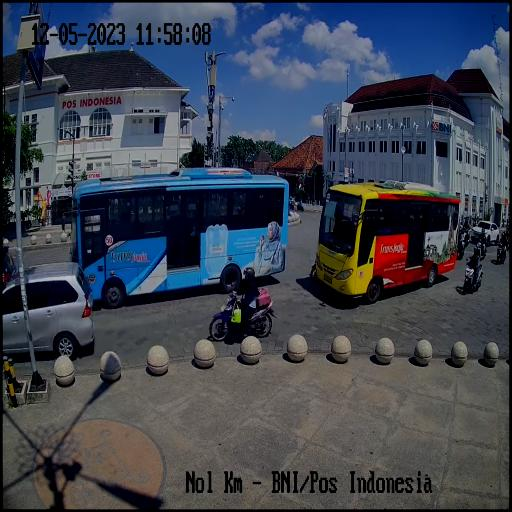mobil: (75, 167, 290, 303), (316, 180, 463, 307), (0, 260, 94, 362)
motor: (210, 282, 276, 346), (464, 256, 484, 296)
